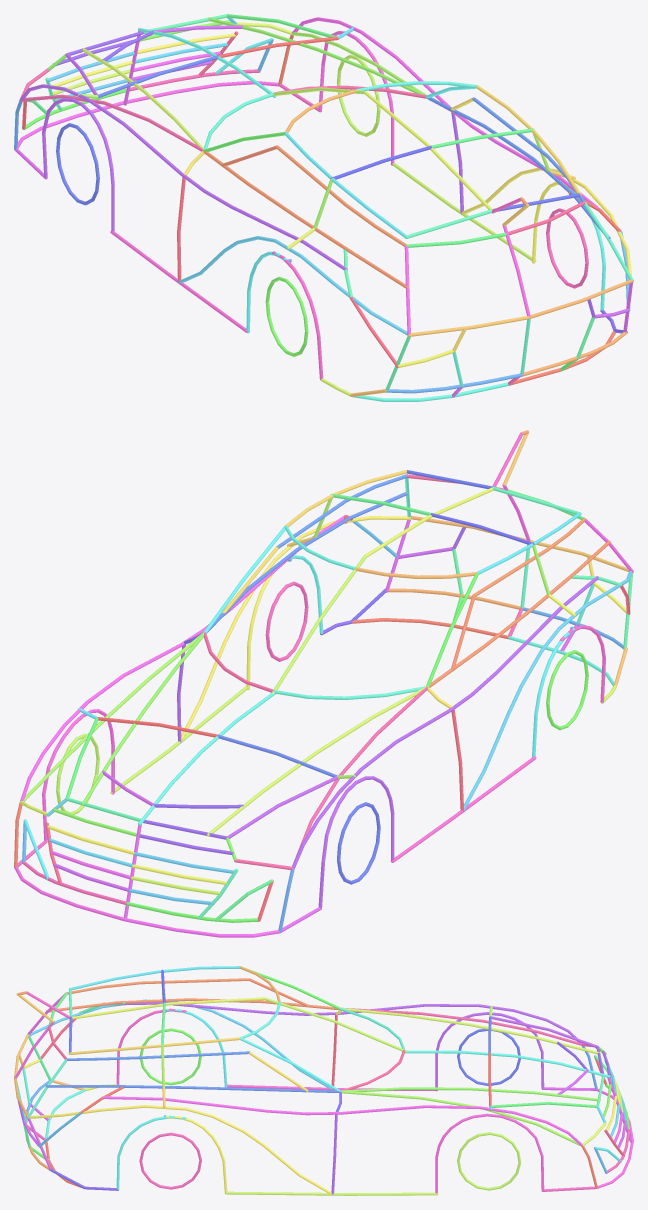
File: ils_car4.gltf
3 views of the same model, one above another, from view 1: azimuth 30°, elevation 25°; view 2: azimuth 150°, elevation 25°; view 3: azimuth 270°, elevation 25° (orthographic). The views are drawn at different scales.
Size of the model in its own units: 0.3725 by 0.244 by 0.9019.
